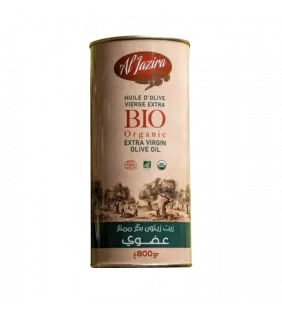AL JAZIRA: (83, 27, 198, 277)
